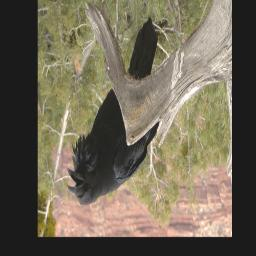Crow: (65, 15, 160, 206)
